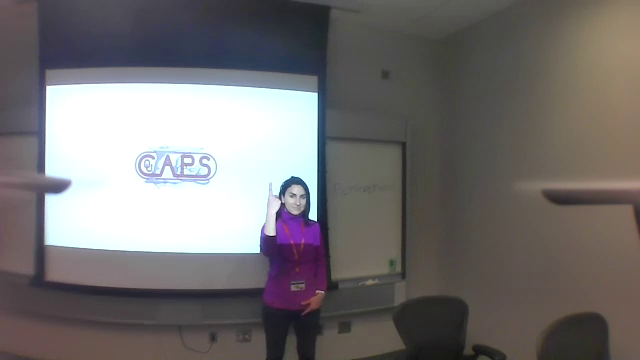up: (263, 176, 284, 212)
